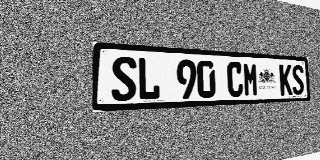0: (197, 60, 215, 98)
9: (177, 59, 197, 99)
C: (227, 61, 243, 97)
K: (279, 64, 292, 95)
L: (137, 57, 160, 101)
M: (243, 62, 258, 97)
S: (111, 56, 137, 101), (292, 65, 304, 95)
